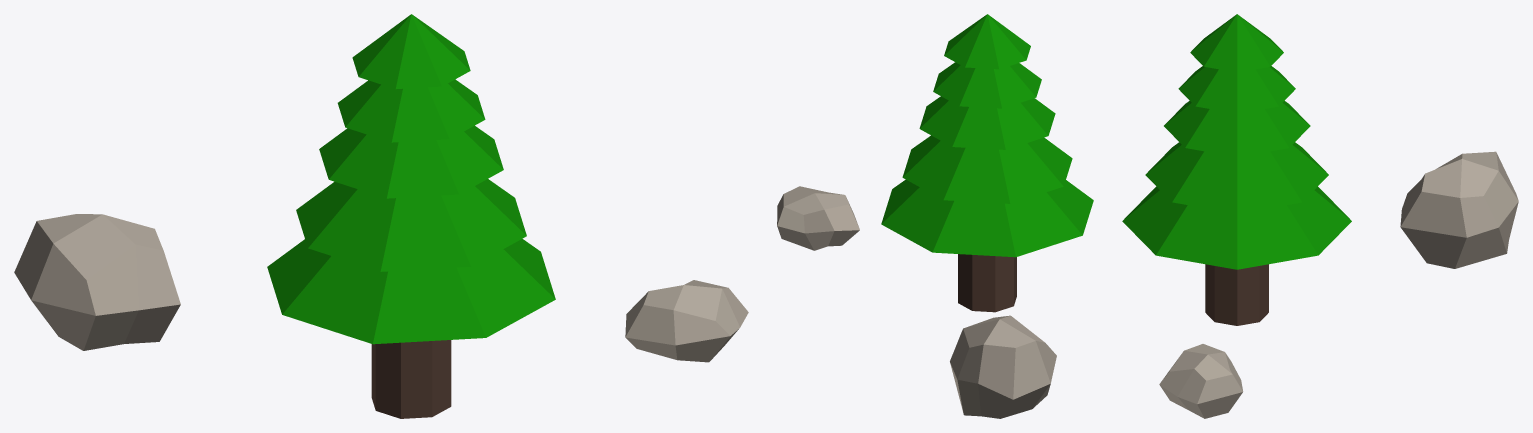
Rendered from example_scene.glb.
3 renders of one model, left to right at view 1: azimuth 30°, elevation 25°; view 2: azimuth 150°, elevation 25°; view 3: azimuth 270°, elevation 25°, orthographic. The views are drawn at different scales.
Visible parts, largest first — view 1: pine, stone_01, stone_02; view 2: pine, stone_01, stone_02; view 3: pine, stone_01, stone_02.
Part boxes in pixels (x1,y1,x2,y2): pine: [267, 14, 555, 418]; stone_01: [14, 214, 180, 350]; stone_02: [625, 280, 748, 362]; pine: [881, 14, 1093, 312]; stone_01: [950, 315, 1056, 418]; stone_02: [777, 186, 859, 250]; pine: [1122, 14, 1351, 325]; stone_01: [1400, 151, 1518, 268]; stone_02: [1159, 344, 1243, 418].
Size of what is drawn, in the model's own units: 6.82 by 4.65 by 5.59.
